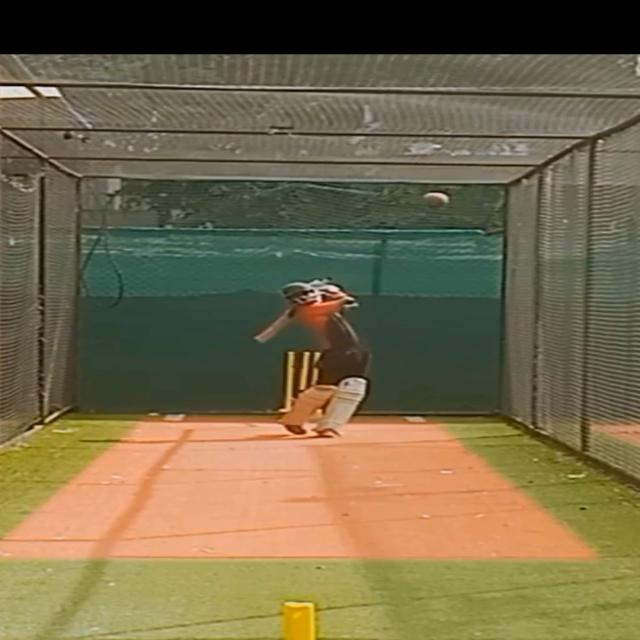ball: (421, 189, 456, 212)
stump: (281, 349, 323, 416)
